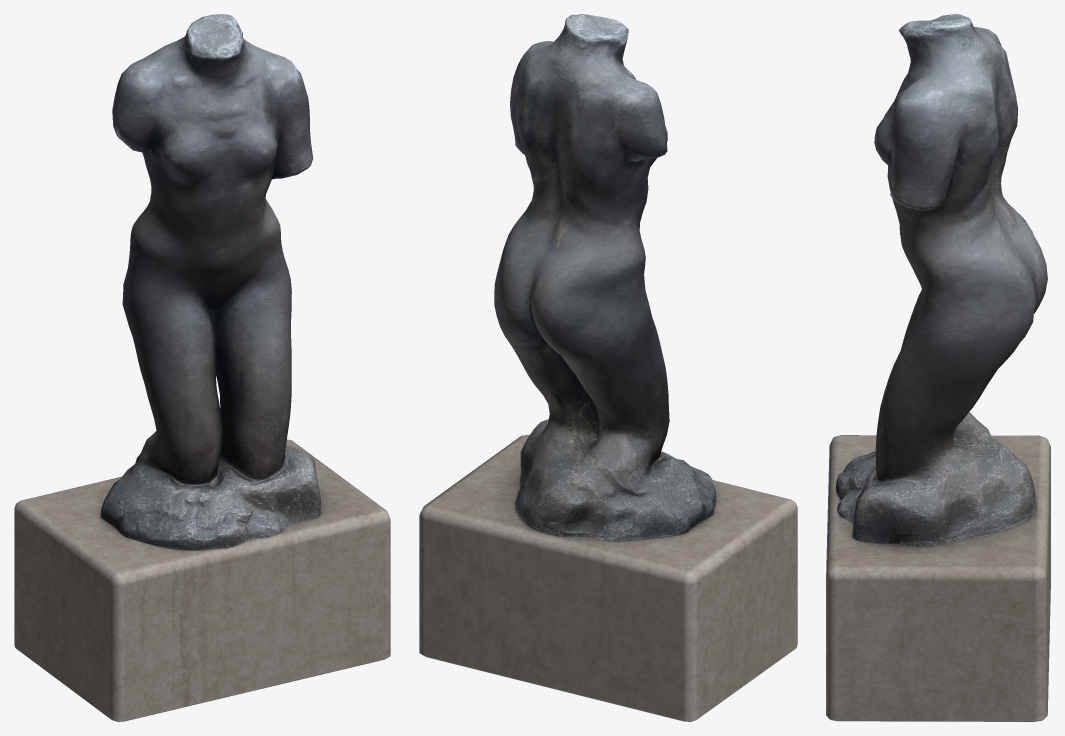
File: LaPriere.glb
The picture shows the model from 3 angles, left to right: view 1: azimuth 30°, elevation 25°; view 2: azimuth 150°, elevation 25°; view 3: azimuth 270°, elevation 25°; orthographic projection. The views are drawn at different scales.
Visible parts, largest first — view 1: LaPriere_Zlow, pCube1; view 2: LaPriere_Zlow, pCube1; view 3: LaPriere_Zlow, pCube1.
Part boxes in pixels (bbox=[...]): LaPriere_Zlow: bbox=[100, 14, 320, 549]; pCube1: bbox=[14, 439, 390, 721]; LaPriere_Zlow: bbox=[494, 14, 715, 542]; pCube1: bbox=[419, 434, 797, 721]; LaPriere_Zlow: bbox=[835, 14, 1047, 547]; pCube1: bbox=[826, 435, 1050, 721].
Size of the model in its own units: 0.7651 by 1.64 by 0.5174.
Materials: 1 (1 with a texture image).
